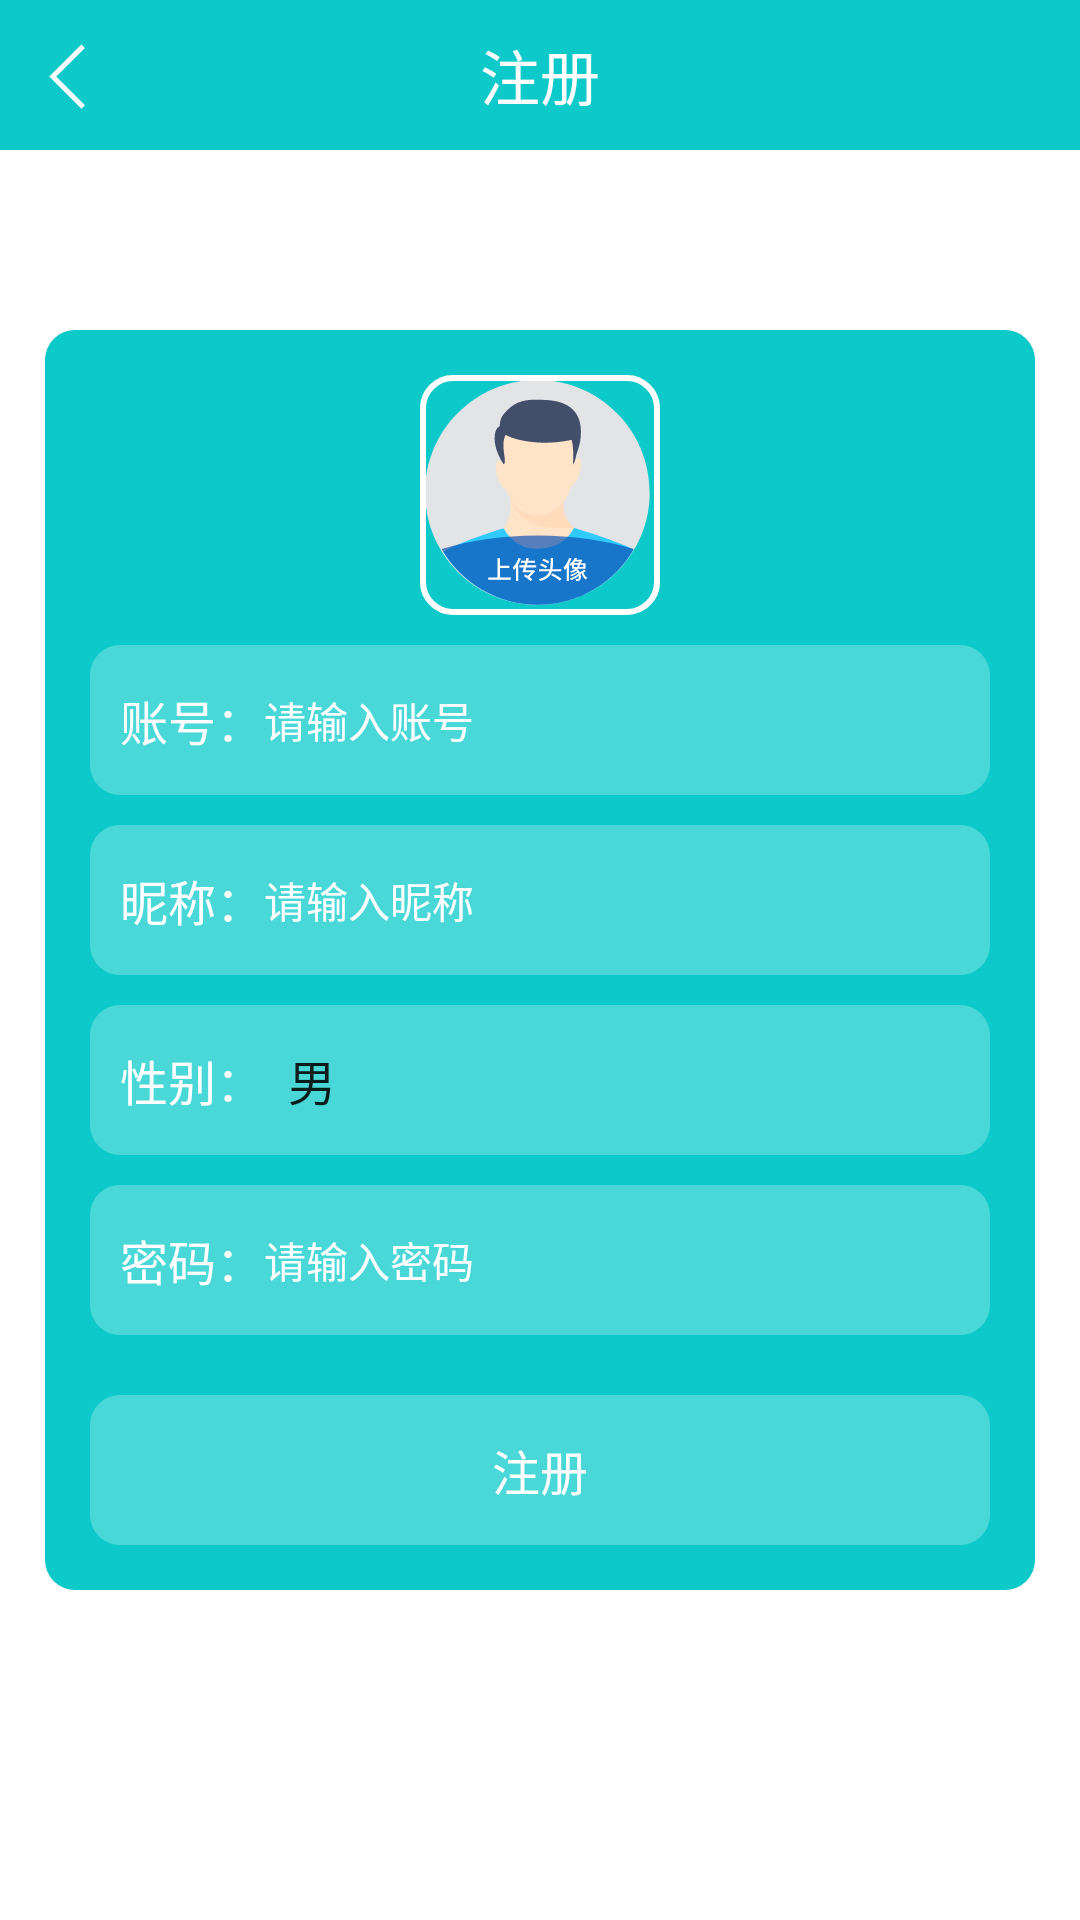

Where to tap for icons on this 1080 × 1920 app screen, as [x,y]:
back: [67,76]
